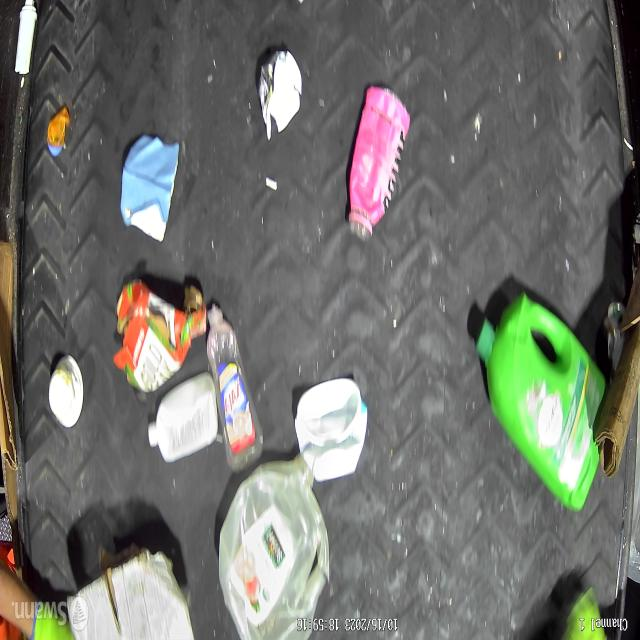can: (604, 300, 626, 369)
milk_jug: (218, 453, 331, 640), (296, 378, 366, 482)
non_white_jug: (477, 290, 606, 511)
plastic_bottle: (348, 85, 411, 247), (206, 302, 264, 473)
